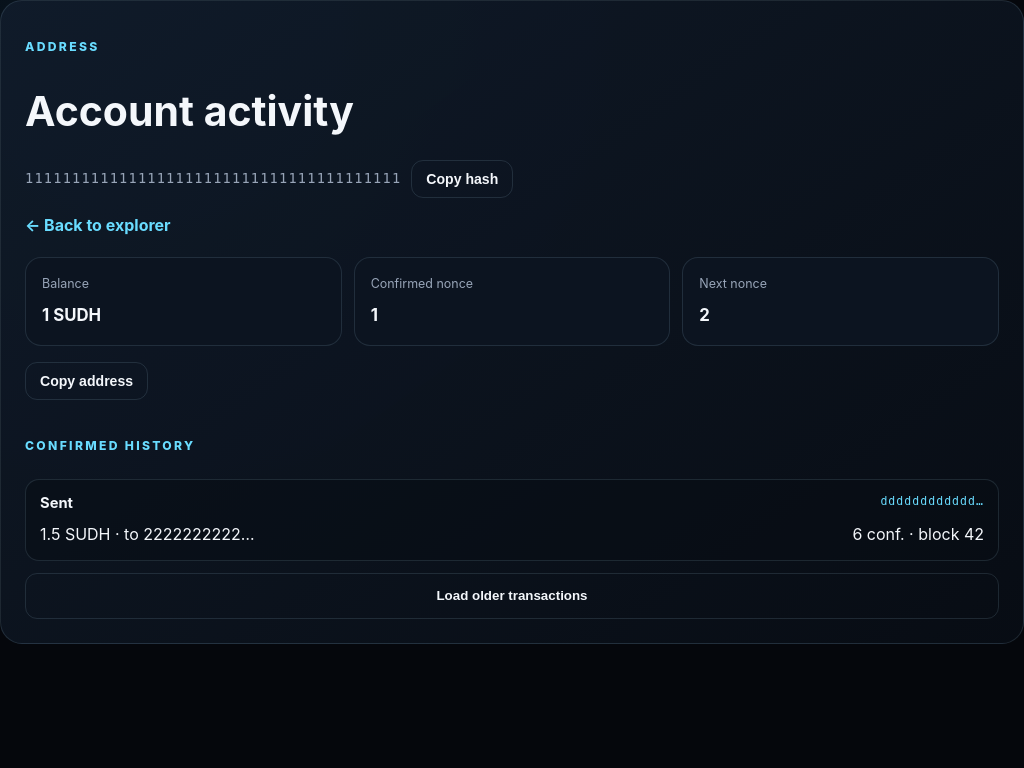
Test: restarts address history from the canonical tip when a cursor becomes stale
The image size is (1024, 768).
Expected: the link "dddddddddddd" is shown, x1=25 y1=479 x2=999 y2=560
Click the button "Load older transactions".
click(512, 596)  # box x1=25 y1=572 x2=999 y2=618
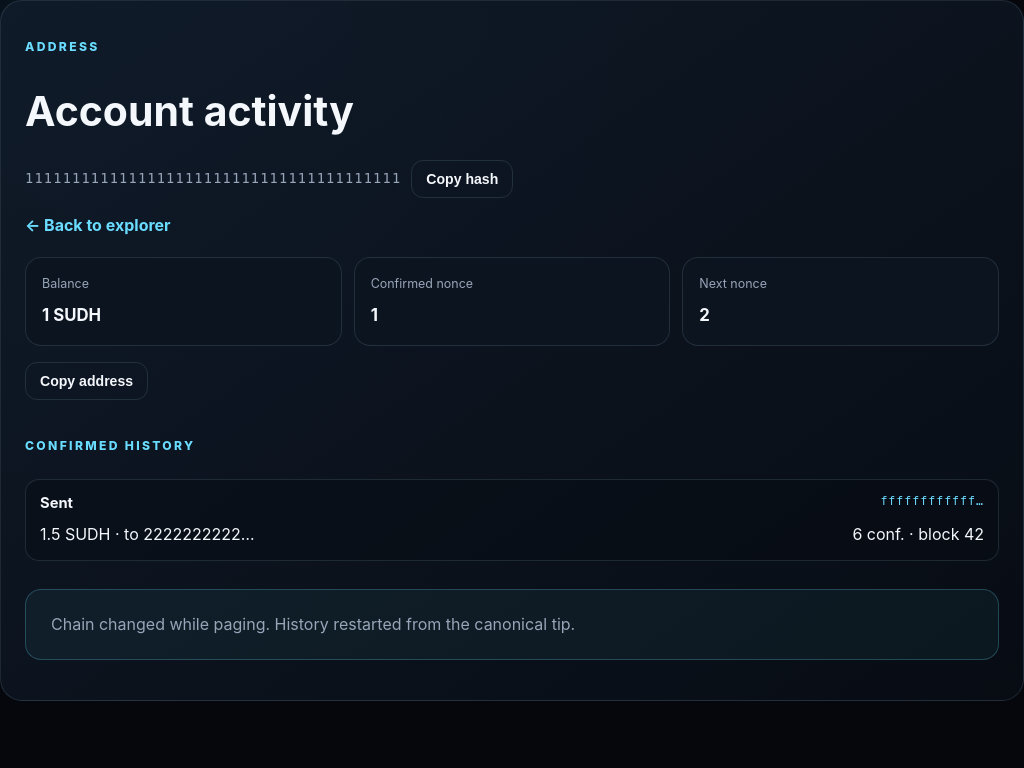
Result: the text "Chain changed while paging" is shown at x1=51 y1=614 x2=575 y2=634
Result: the link "ffffffffffff" is shown at x1=25 y1=479 x2=999 y2=560
